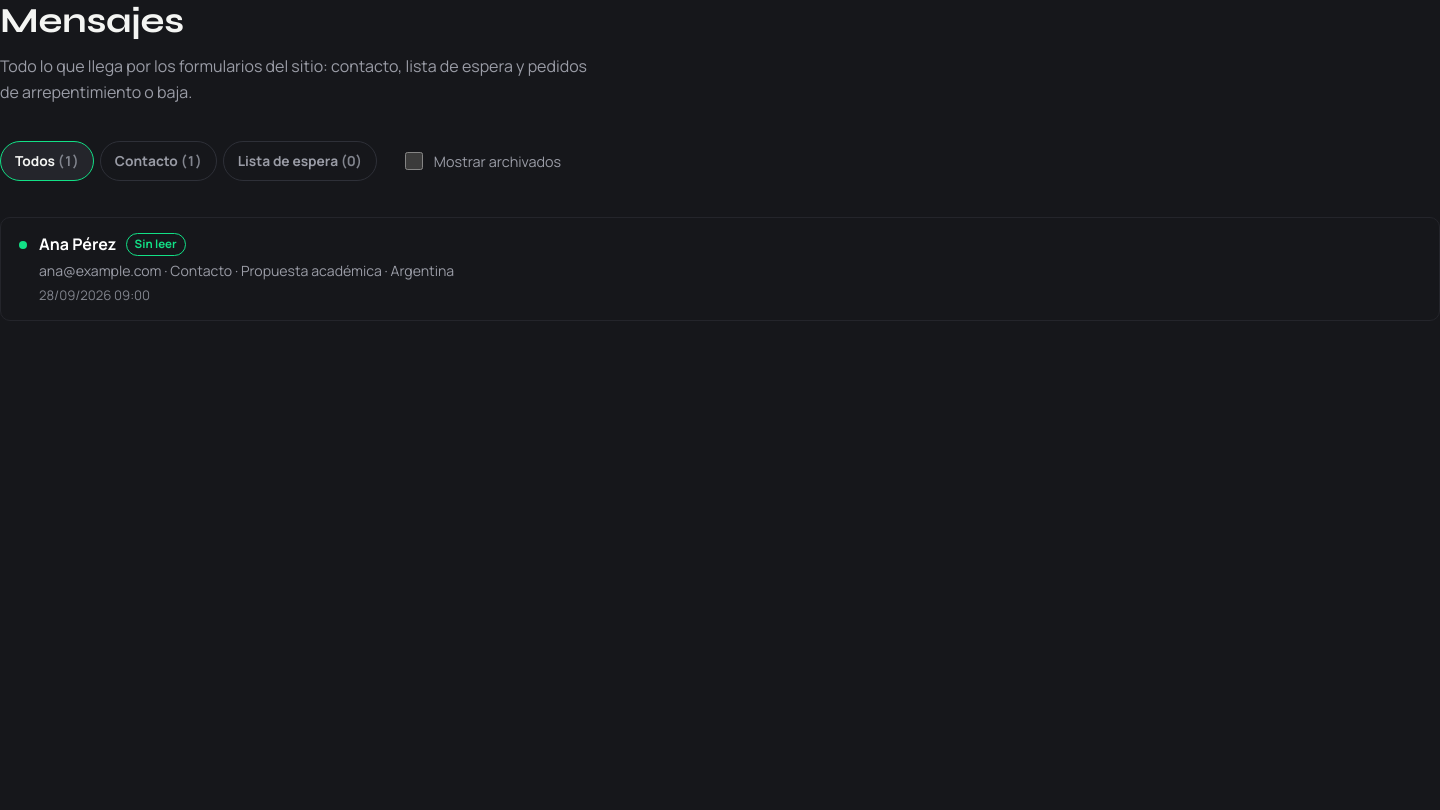
Test: MessagesPage › al abrir un mensaje lo marca como leído y ofrece responder
What coordinates should you click on to do the following:
click the button "Ana Pérez"
I would click on:
 (78, 244)
Its box is [1,218,1439,320].
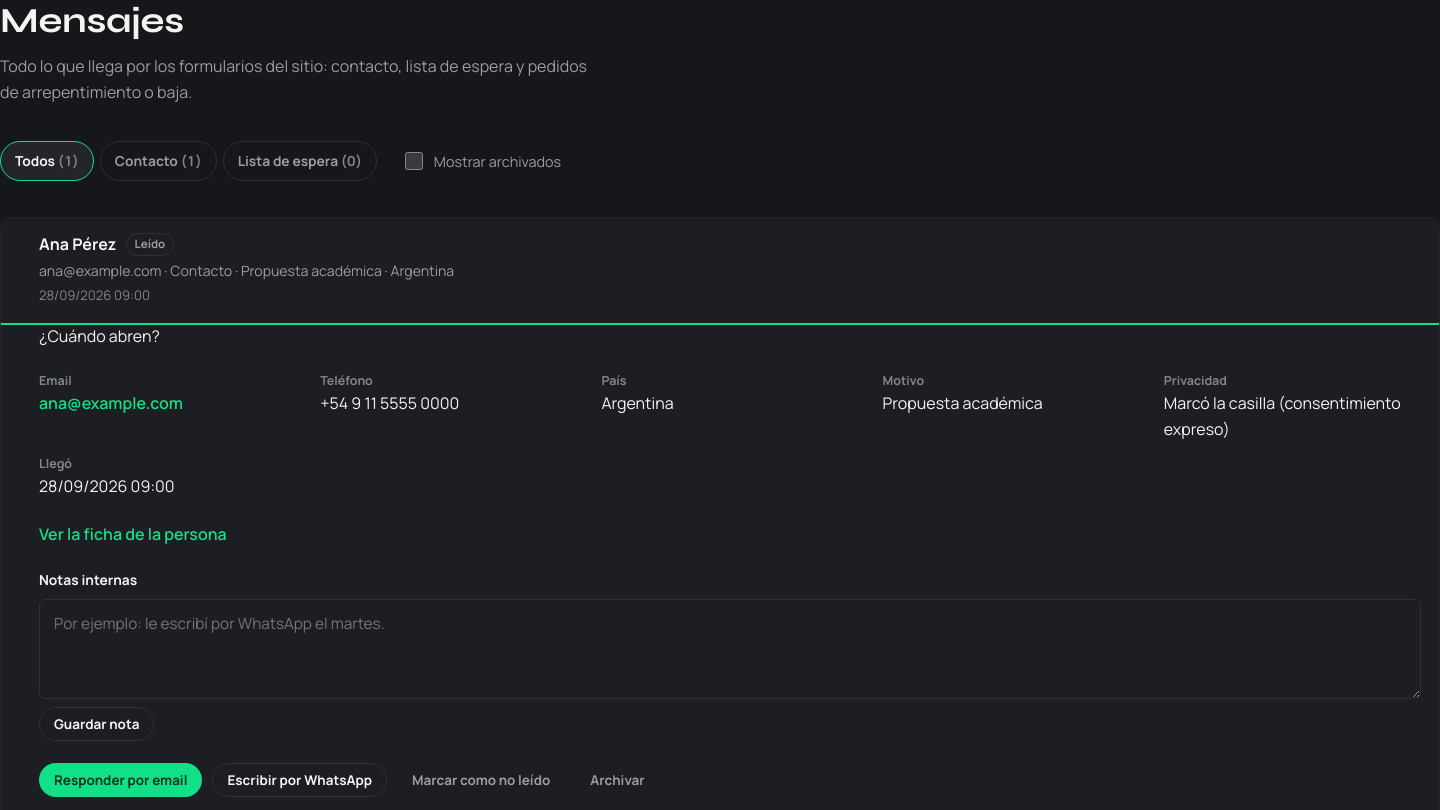
Expected: the text "¿Cuándo abren?" is shown, [39,324,160,346]
